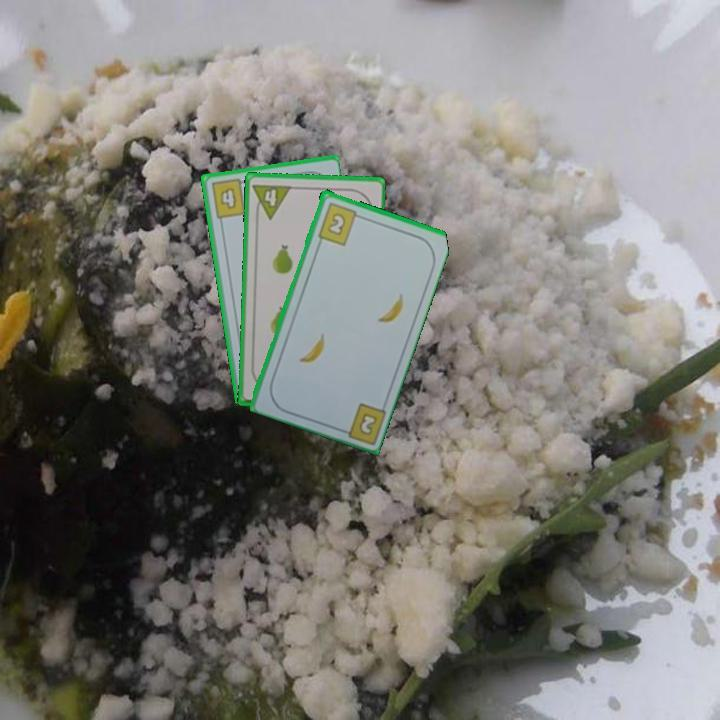2b: (314, 199, 365, 248), (334, 399, 388, 445)
4b: (207, 175, 250, 221)
4p: (249, 180, 294, 222)
